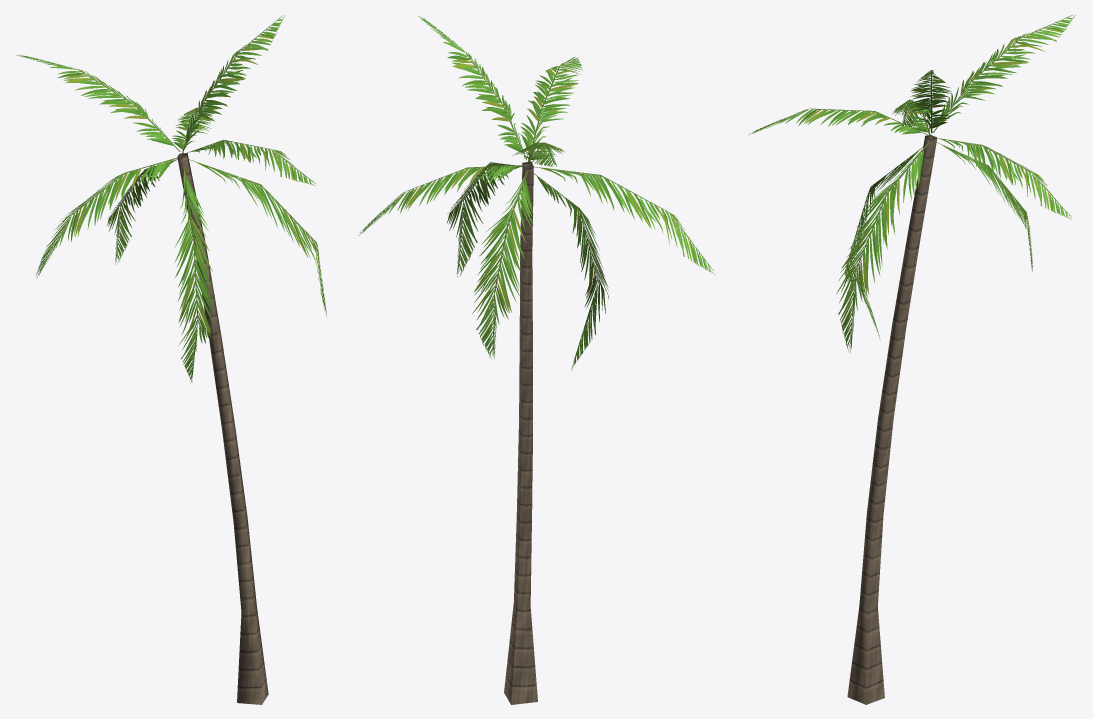
The model's file is palma_bl_a_lo.glb.
The picture shows the model from 3 angles, left to right: view 1: azimuth 30°, elevation 25°; view 2: azimuth 150°, elevation 25°; view 3: azimuth 270°, elevation 25°; orthographic projection. The views are drawn at different scales.
Parts seen in each view (by area): view 1: palma_bl_a_lo; view 2: palma_bl_a_lo; view 3: palma_bl_a_lo.
Part boxes in pixels (left/top/right/bottom): palma_bl_a_lo: left=16, top=15, right=326, bottom=704; palma_bl_a_lo: left=359, top=16, right=714, bottom=704; palma_bl_a_lo: left=749, top=15, right=1075, bottom=704.
Size of the model in its own units: 4.38 by 9.88 by 4.5.
Materials: 2 (2 with a texture image).
